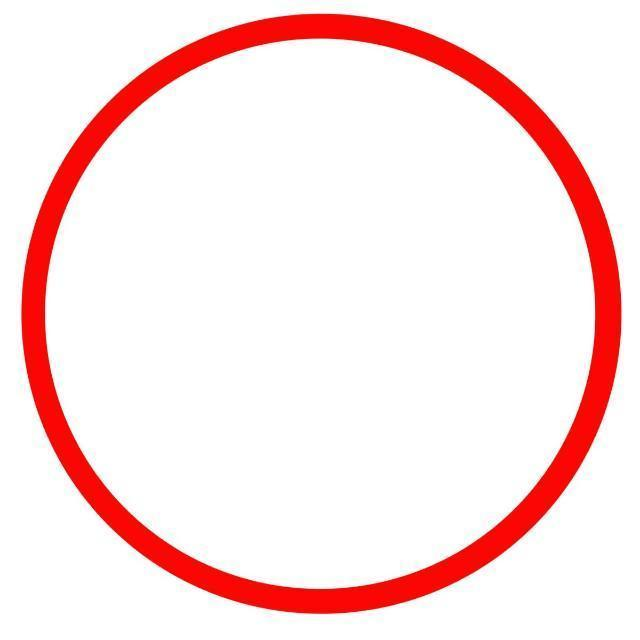Circle: (14, 6, 624, 614)
